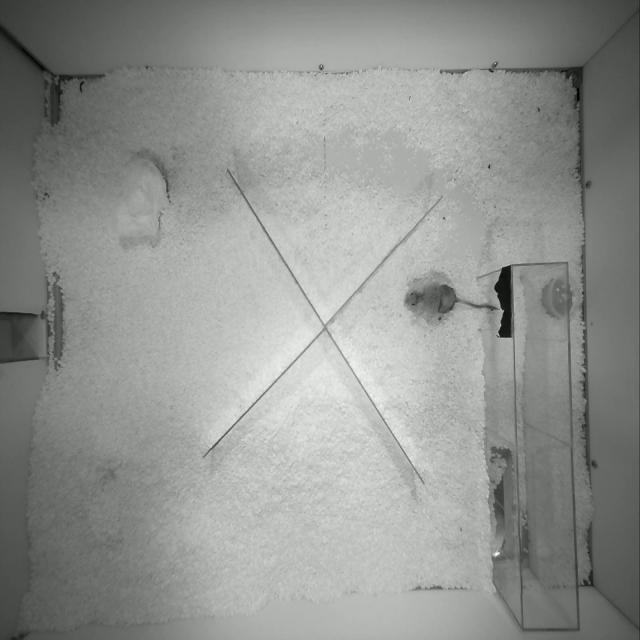adult_back: (405, 281, 498, 317)
